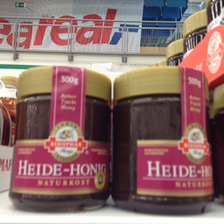honey: (115, 67, 215, 215), (16, 66, 114, 213)
